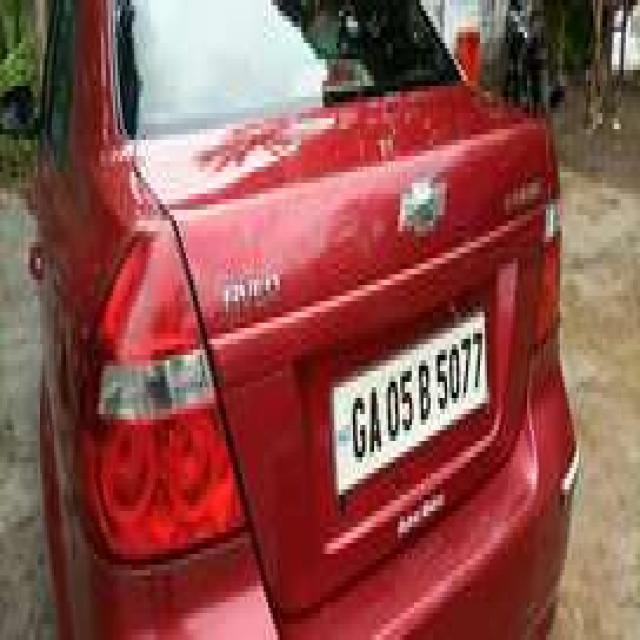license-plate: (329, 302, 487, 489)
